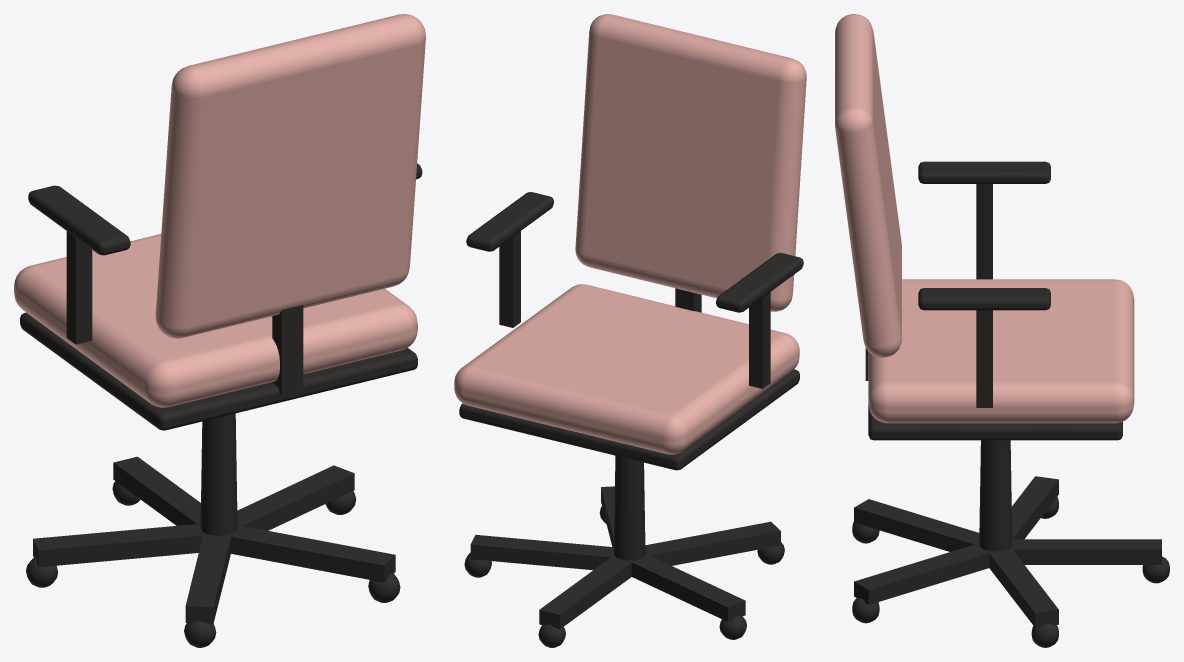
File: task-chair.glb
3 renders of one model, left to right at view 1: azimuth 30°, elevation 25°; view 2: azimuth 150°, elevation 25°; view 3: azimuth 270°, elevation 25°, orthographic. The views are drawn at different scales.
Parts seen in each view (by area): view 1: task-chair_LOD0:upholstery, task-chair_LOD0:graphite; view 2: task-chair_LOD0:upholstery, task-chair_LOD0:graphite; view 3: task-chair_LOD0:upholstery, task-chair_LOD0:graphite.
Boxes of the visible parts, x1,y1,x2,y2 form: task-chair_LOD0:upholstery: [14, 14, 425, 407]; task-chair_LOD0:graphite: [20, 163, 422, 647]; task-chair_LOD0:upholstery: [454, 14, 806, 454]; task-chair_LOD0:graphite: [459, 192, 803, 647]; task-chair_LOD0:upholstery: [835, 14, 1134, 423]; task-chair_LOD0:graphite: [852, 161, 1169, 647].
Size of what is drawn, in the model's own units: 0.6036 by 1.04 by 0.6052.
